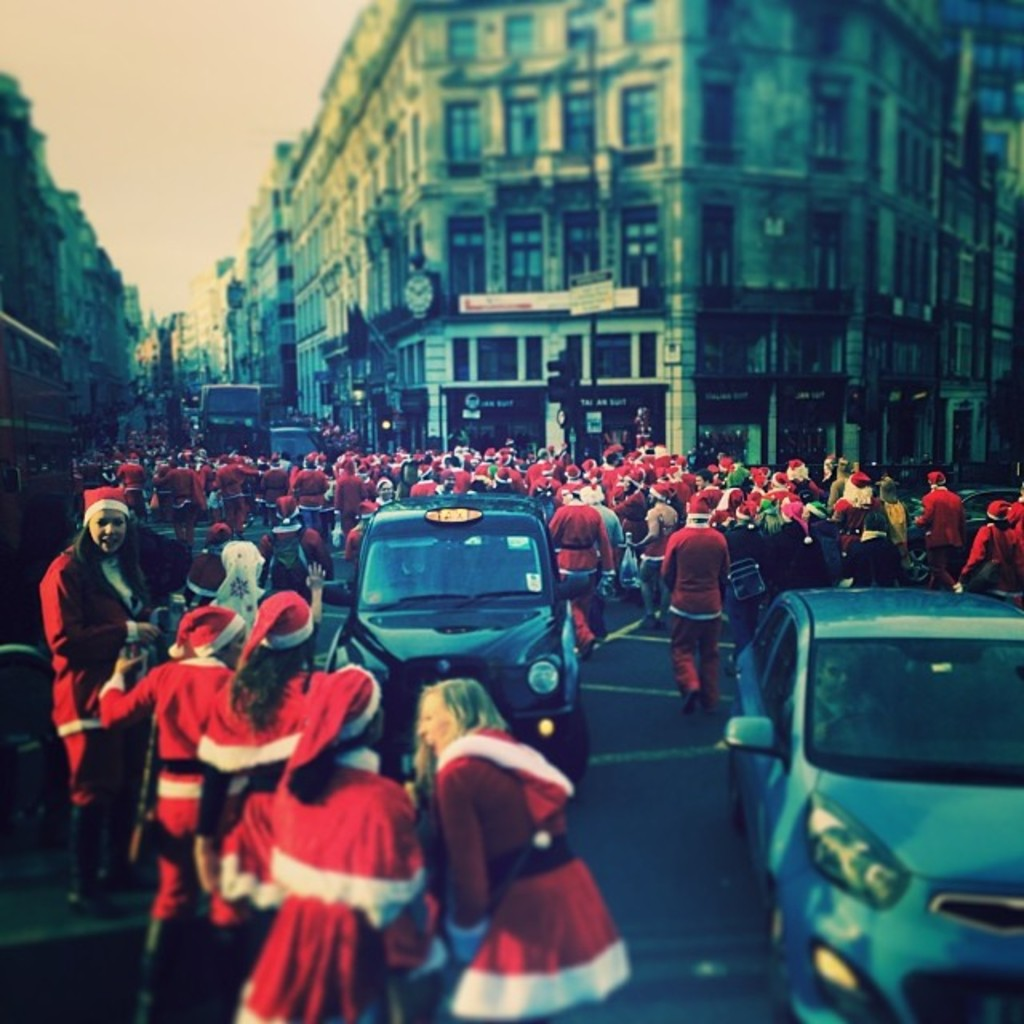cars: (716, 579, 1017, 1022), (332, 487, 604, 739), (273, 422, 330, 461)
